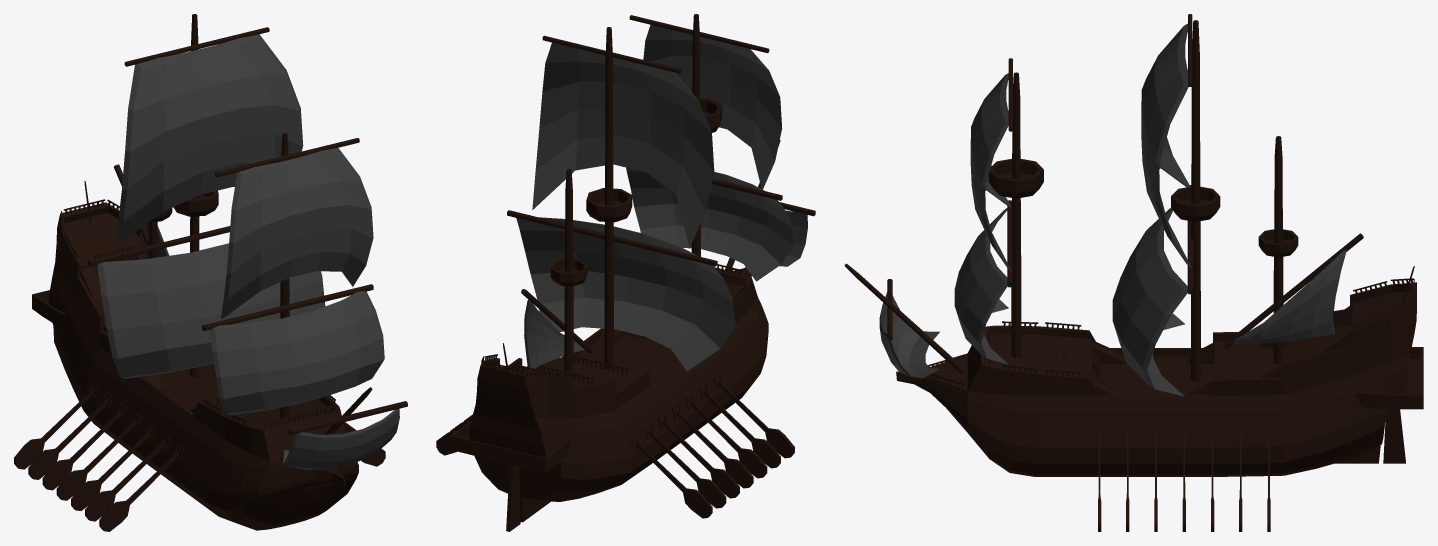
File: Ship_Large_FBX.fbx
3 views of the same model, side by side, from view 1: azimuth 30°, elevation 25°; view 2: azimuth 150°, elevation 25°; view 3: azimuth 270°, elevation 25° (orthographic). The views are drawn at different scales.
Parts seen in each view (by area): view 1: Box047, Box051, Box052, Box053, Box054, Box081, Box059, Box090, Box092, Box095, Box093, Box057 (+11 smaller); view 2: Box047, Box051, Box053, Box054, Box052, Cylinder005, Box048, Box055, Cylinder007, Box057, Cylinder011, Box095 (+15 smaller); view 3: Box047, Box053, Box051, Box054, Box055, Box052, Cylinder005, Cylinder006, Box081, Box048, Cylinder010, Cylinder007 (+5 smaller).
Boxes of the visible parts, x1,y1,x2,y2 form: Box047: (48,202,358,530); Box051: (114,34,303,245); Box052: (221,147,373,318); Box053: (97,243,325,378); Box054: (210,291,384,415); Box081: (283,409,399,469); Box059: (202,284,373,330); Box090: (99,450,180,531); Box092: (71,429,151,510); Box095: (28,398,108,479); Box093: (56,418,137,500); Box057: (88,226,230,266); Box047: (468,267,768,501); Box051: (532,42,714,248); Box053: (516,217,735,371); Box054: (626,167,793,281); Box052: (643,24,782,190); Cylinder005: (604,27,613,370); Box048: (450,421,571,472); Box055: (524,299,584,371); Cylinder007: (564,168,573,378); Box057: (507,210,717,266); Cylinder011: (586,188,632,222); Box095: (648,429,726,508); Box047: (896,282,1416,476); Box053: (1112,207,1187,396); Box051: (1141,23,1191,268); Box054: (954,208,1008,364); Box055: (1233,250,1346,343); Box052: (970,73,1011,271); Cylinder005: (1191,20,1200,381); Cylinder006: (1011,72,1021,357); Box081: (879,292,939,378); Box048: (1355,347,1423,409); Cylinder010: (988,159,1043,198); Cylinder007: (1273,136,1283,364).
Bounding box in the file's own units: 6075 × 9136 × 10759.
